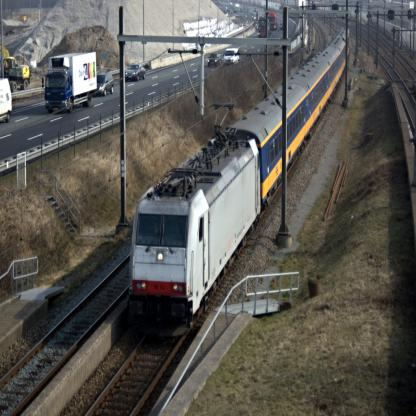Car: (93, 71, 116, 98), (126, 63, 148, 83), (205, 52, 225, 67)
Truck: (40, 40, 96, 104)
